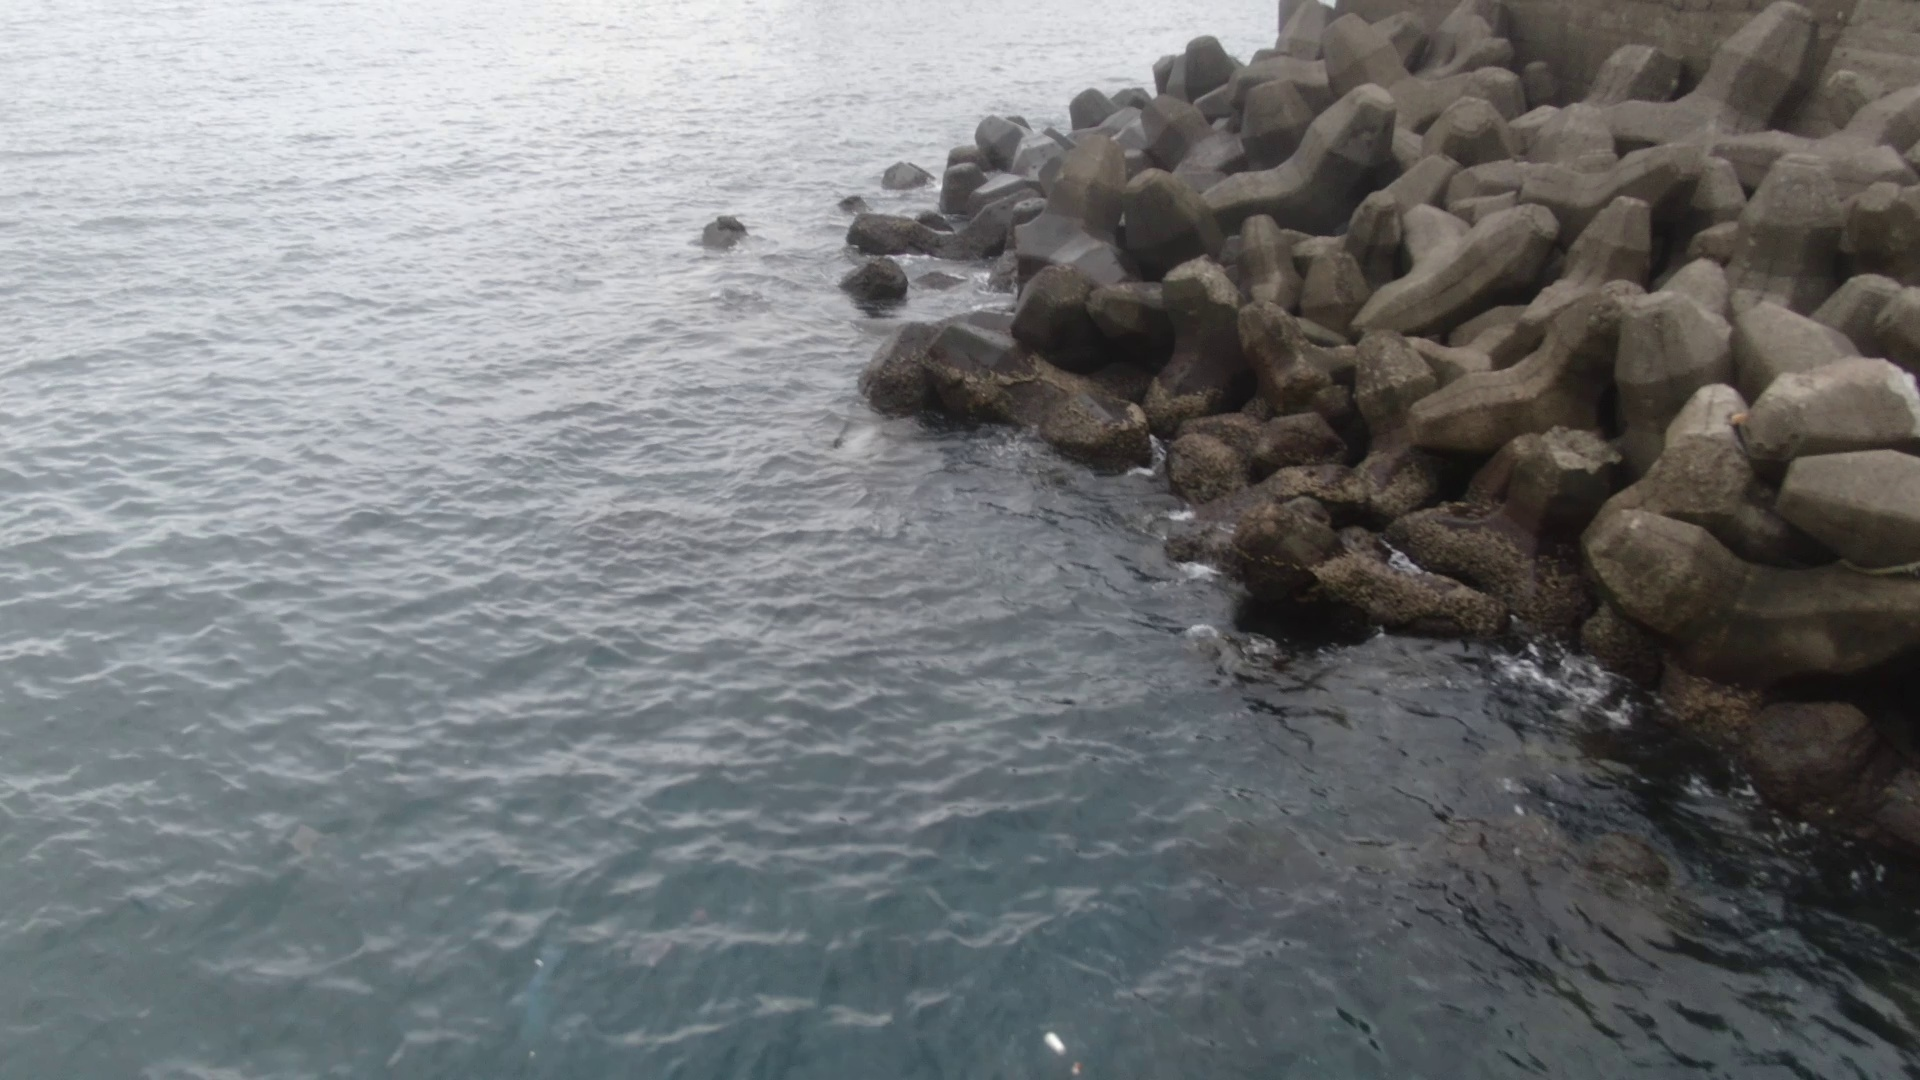garbage: (1040, 1027, 1073, 1065)
